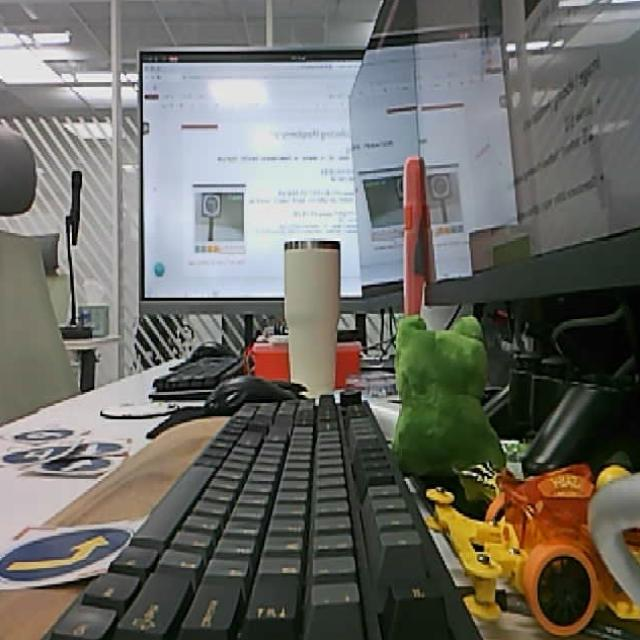turn: (0, 516, 143, 596)
